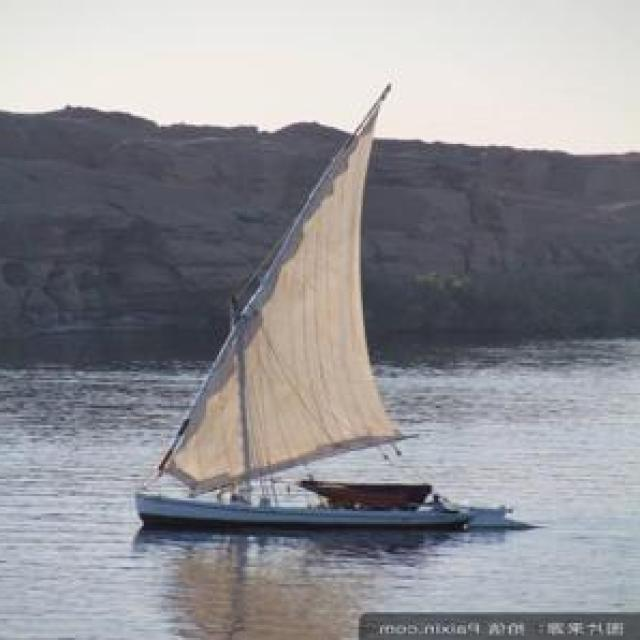sailboat: (137, 80, 478, 529)
